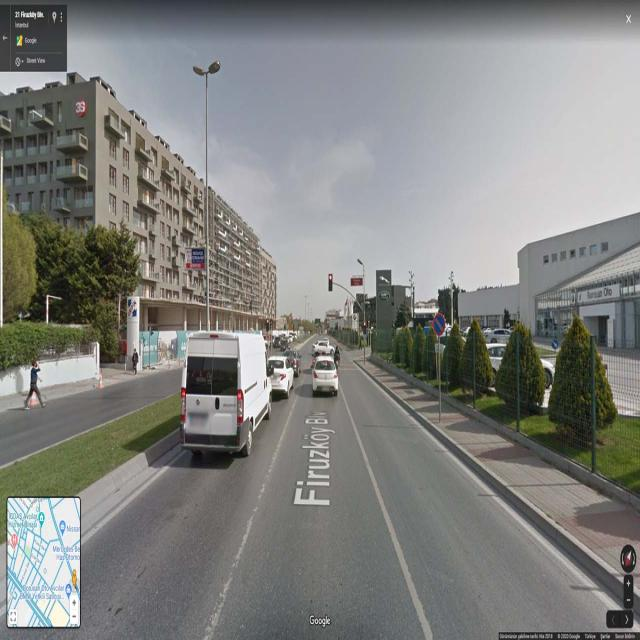kirmizi: (328, 274, 332, 293)
parkyasak: (432, 310, 446, 338)
